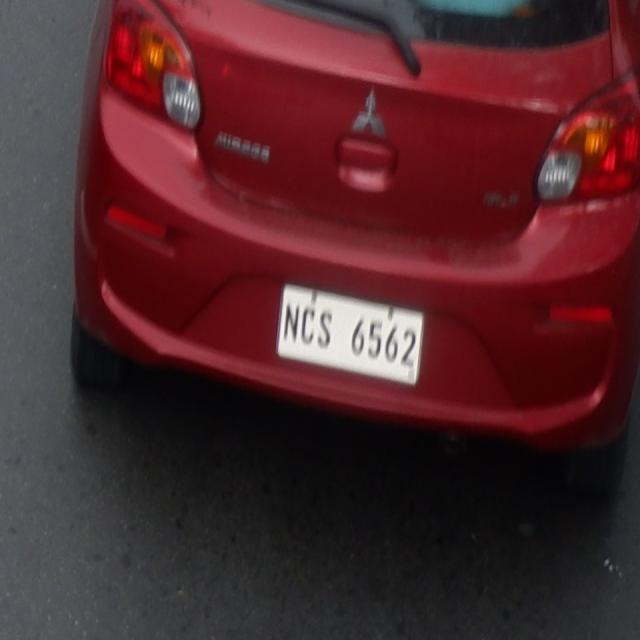LicensePlate: (265, 279, 429, 388)
